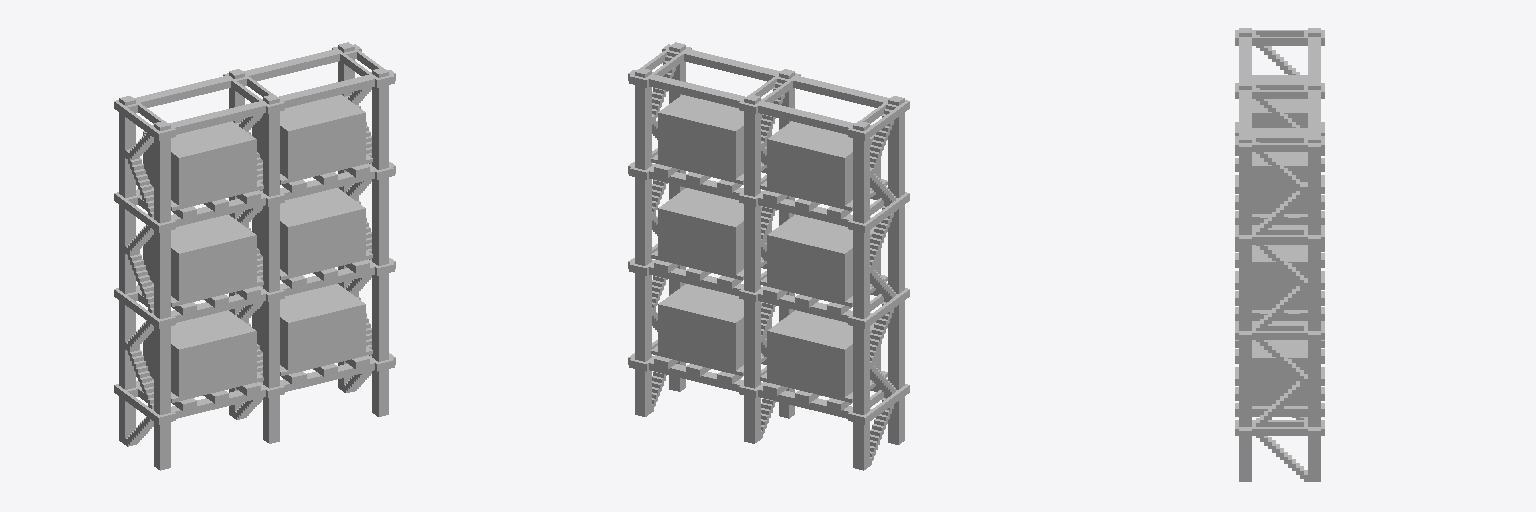
Rendered from estoque3.2.obj.
3 renders of one model, left to right at view 1: azimuth 30°, elevation 25°; view 2: azimuth 150°, elevation 25°; view 3: azimuth 270°, elevation 25°, orthographic.
Parts seen in each view (by area): view 1: object 1; view 2: object 1; view 3: object 1.
Boxes of the visible parts, x1=… form: object 1: x1=114, y1=42, x2=395, y2=470; object 1: x1=628, y1=42, x2=909, y2=470; object 1: x1=1235, y1=28, x2=1324, y2=481.
Bounding box in the file's own units: 6.8 × 9.3 × 2.2.